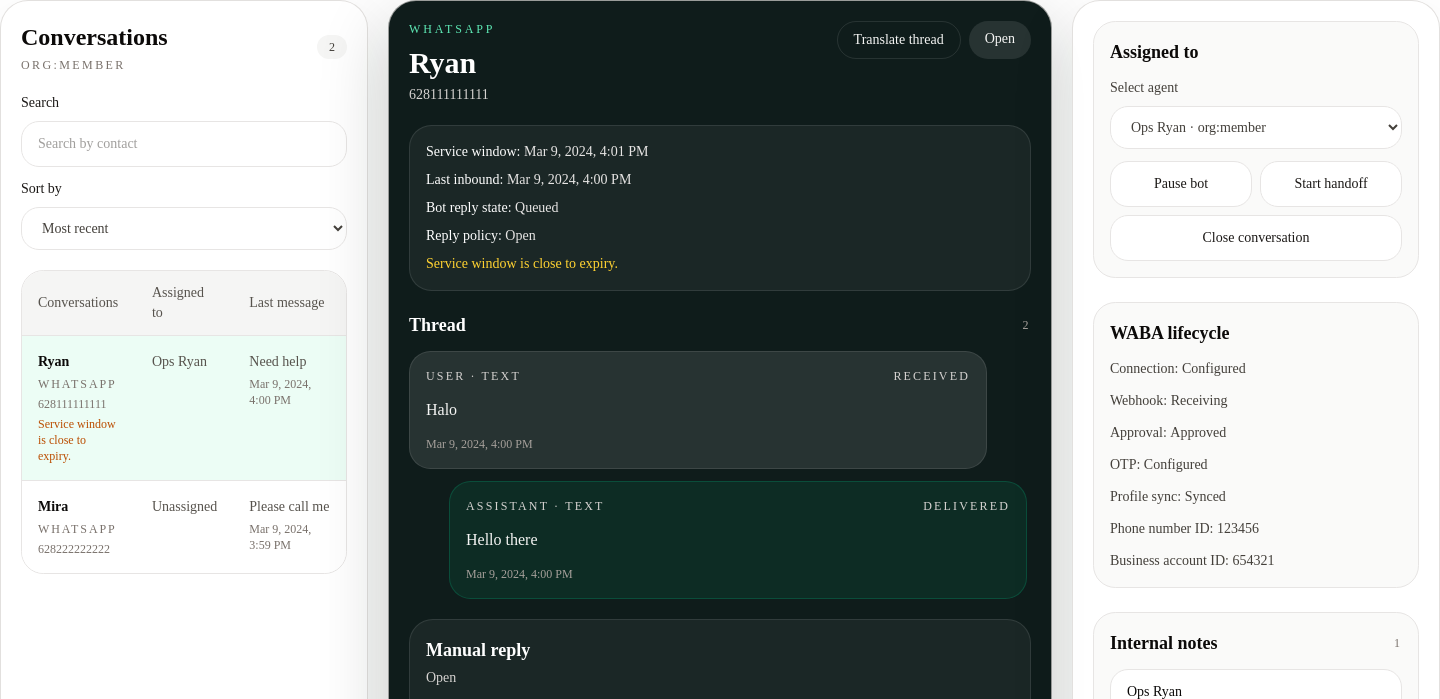
Test: Phase 10 inbox workspace › renders translated content without mutating the stored original message
Step 1. Click the button "Translate thread" → point(899, 40), box [837, 21, 961, 59]
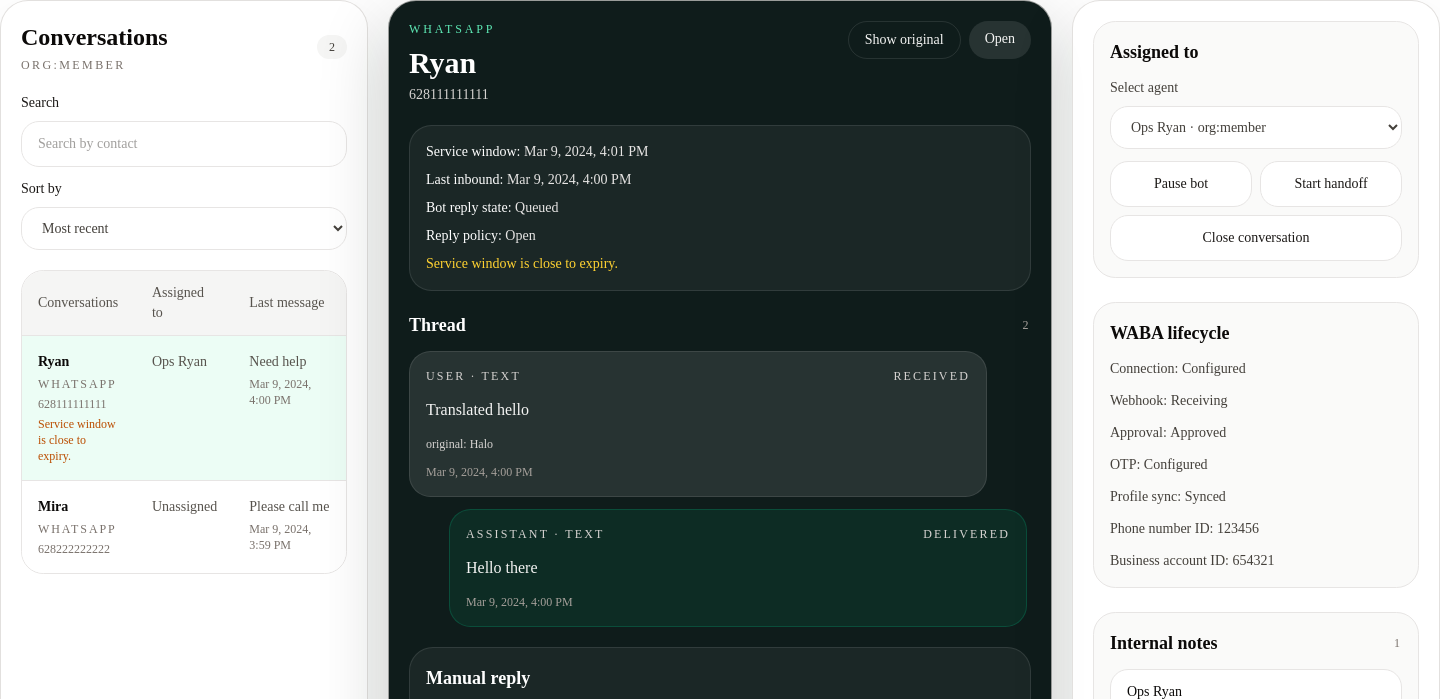
Check: the text "Translated hello" is shown, box [426, 401, 529, 418]
Check: the text "original: Halo" is shown, box [426, 437, 493, 451]
